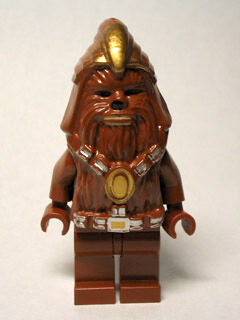lego: (35, 16, 204, 315)
